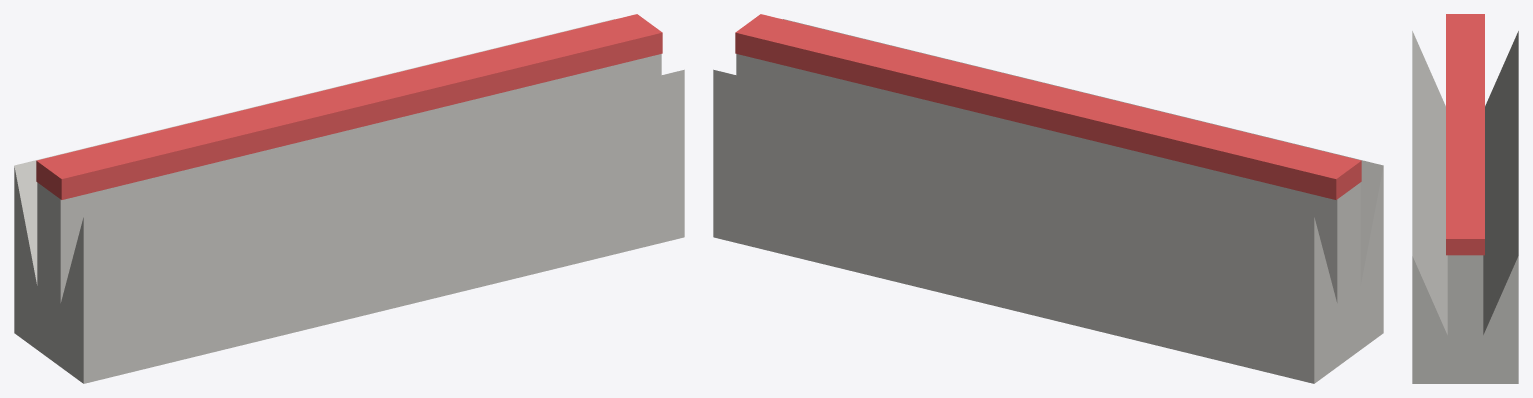
The model's file is rc_jersey_barrier.glb.
3 views of the same model, side by side, from view 1: azimuth 30°, elevation 25°; view 2: azimuth 150°, elevation 25°; view 3: azimuth 270°, elevation 25° (orthographic). The views are drawn at different scales.
Visible parts, largest first — view 1: rc_jersey_barrier; view 2: rc_jersey_barrier; view 3: rc_jersey_barrier.
Boxes of the visible parts, bbox=[...] form: rc_jersey_barrier: bbox=[14, 14, 684, 383]; rc_jersey_barrier: bbox=[713, 14, 1383, 383]; rc_jersey_barrier: bbox=[1412, 14, 1518, 383].
Bounding box in the file's own units: 3 × 0.9 × 0.6.
